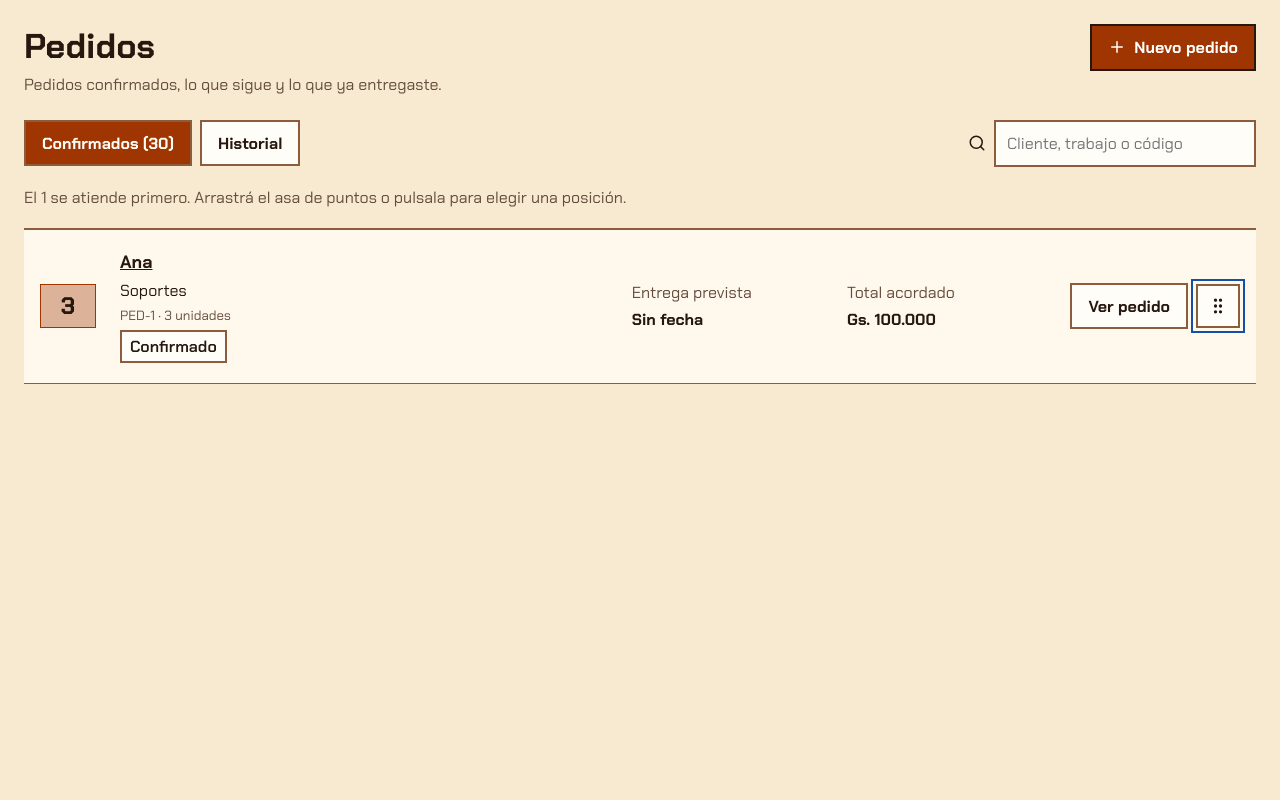
keeps the focused priority handle mounted while refreshing
Click the button named "Cambiar prioridad de Ana".
click(1218, 306)  # box [1196,284,1240,328]
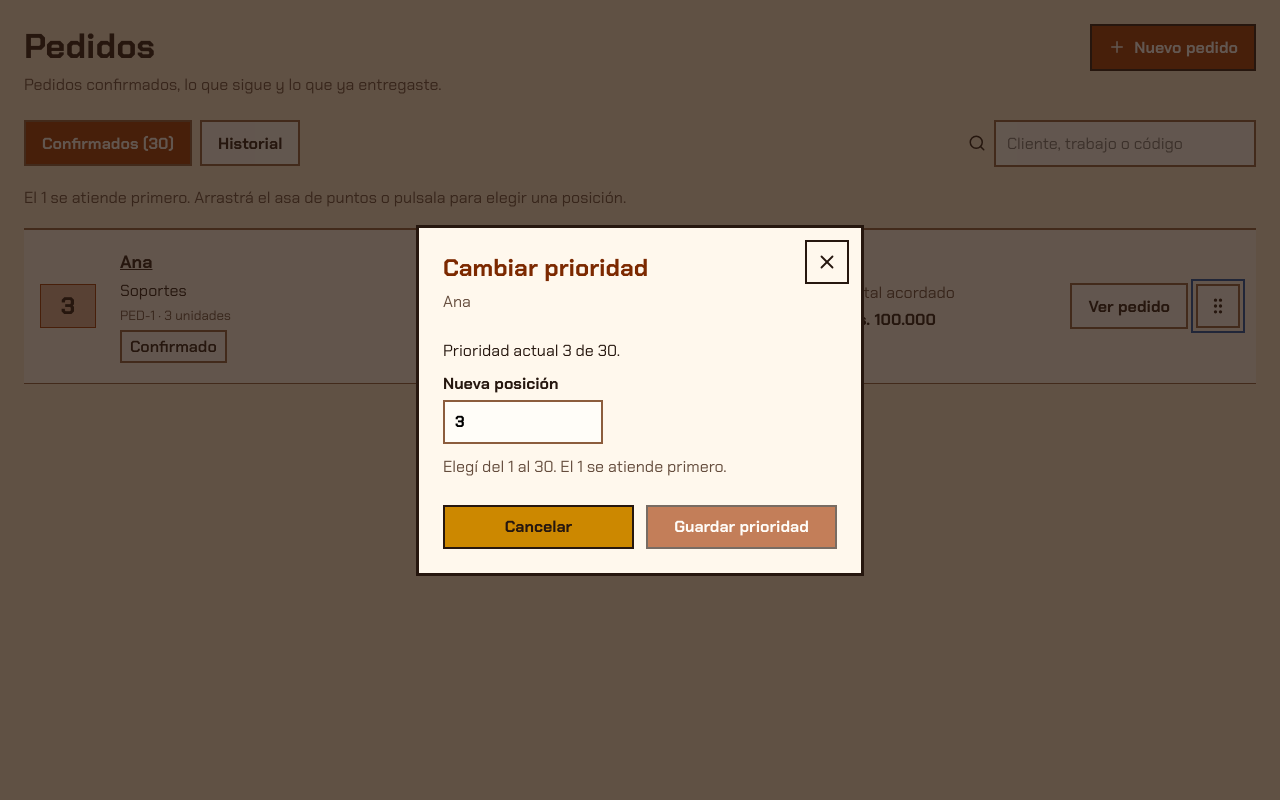
Replace the text in the number field labelled "Nueva posición" with "1" at [523, 422], box [443,400,603,444]
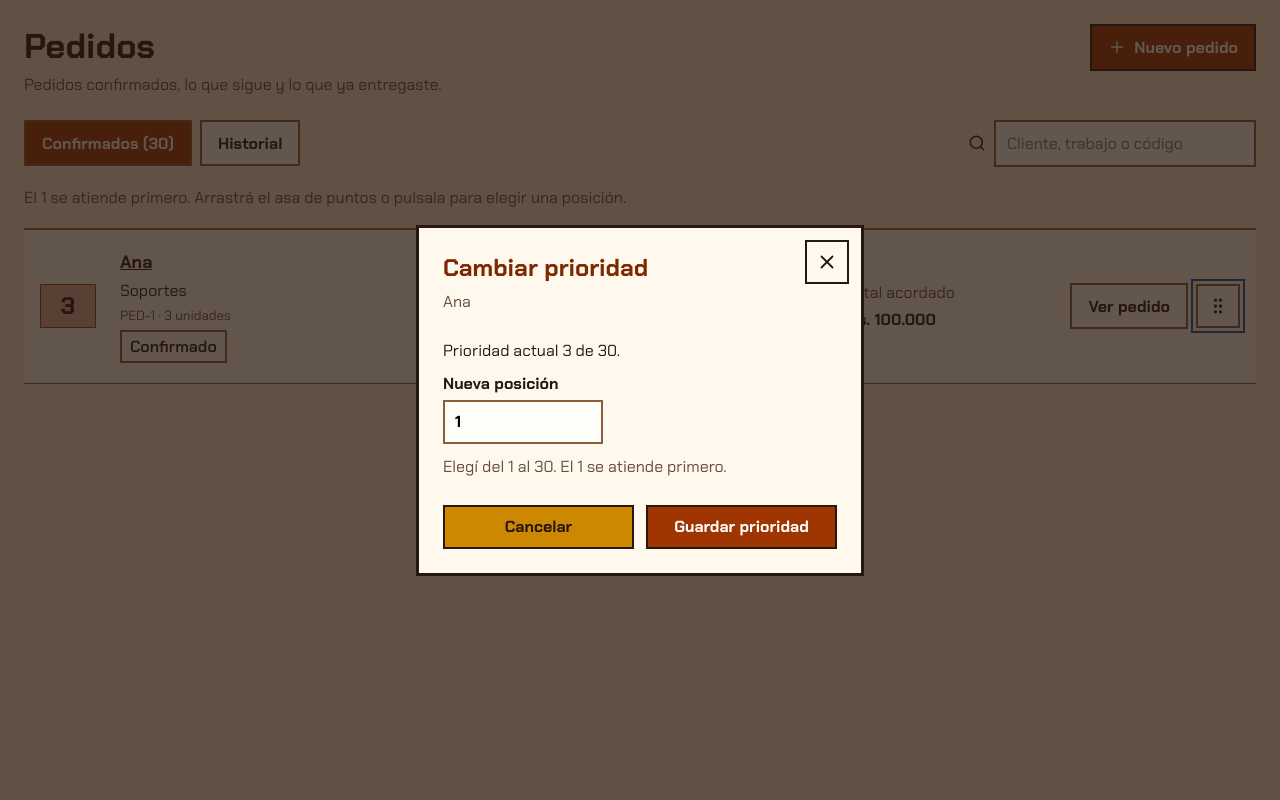
Click the button "Guardar prioridad".
click(742, 526)  # box [646,504,837,548]
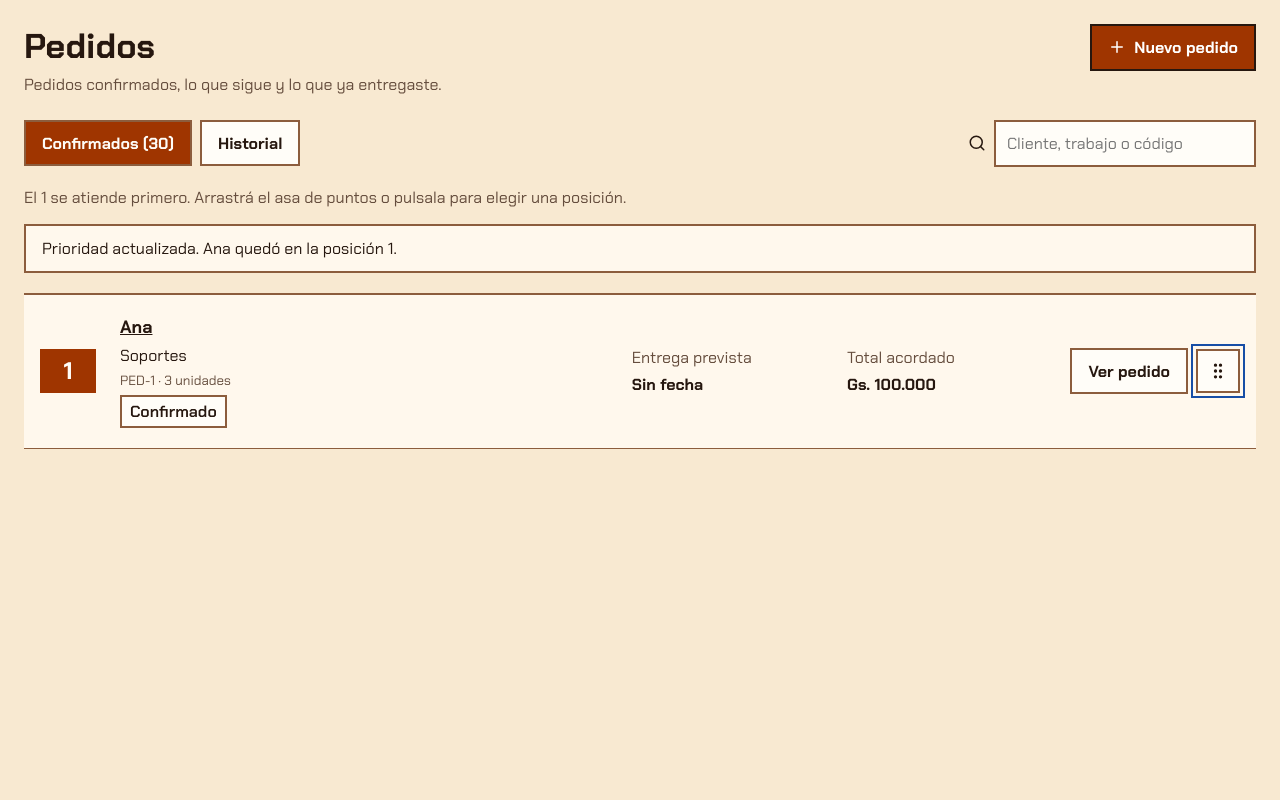
Expected: the button named "Cambiar prioridad de Ana" is shown, [1196,349,1240,393]
Expected: the text "Prioridad actualizada. Ana quedó en la posición 1." is shown, [24,224,1256,273]
